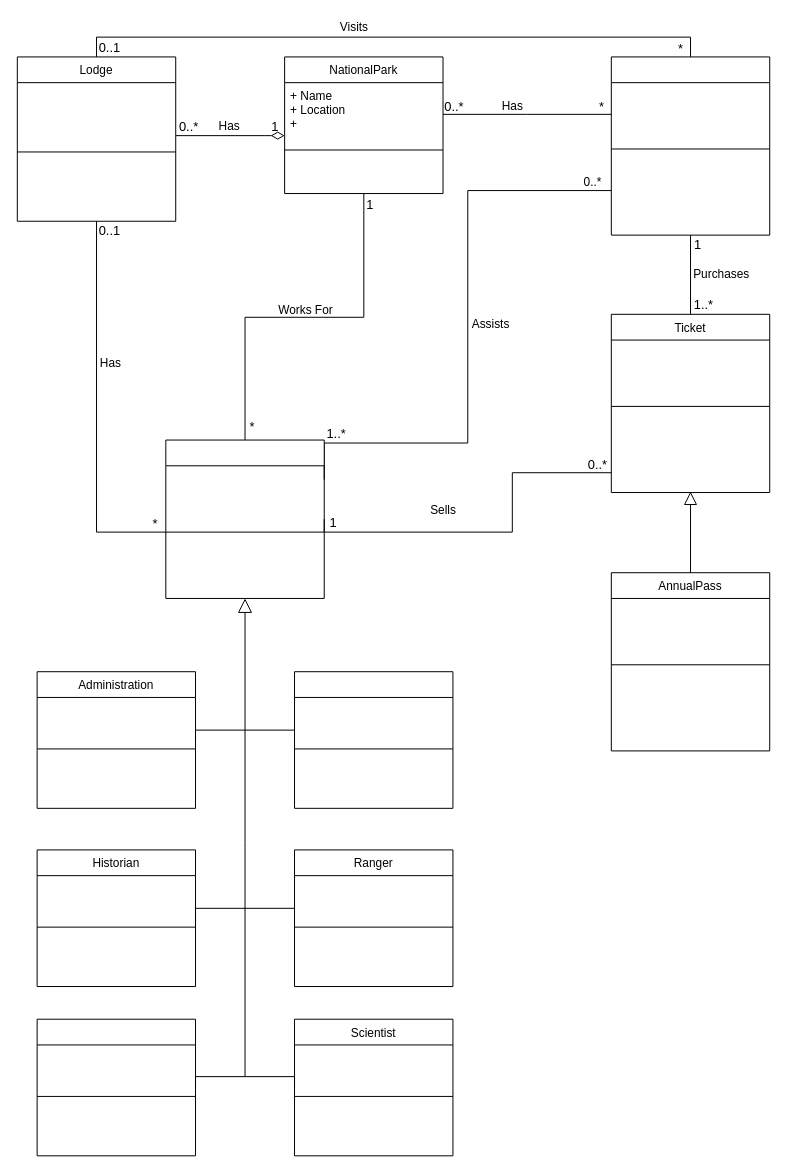
This 787x1173 diagram has some shape labels left out. Each missing label, with the centre of its shape:
"Employee" goes at (x=244, y=518).
"Maintenance" goes at (x=373, y=739).
"Seasonal" goes at (x=116, y=1087).
"Visitor" goes at (x=690, y=145).
